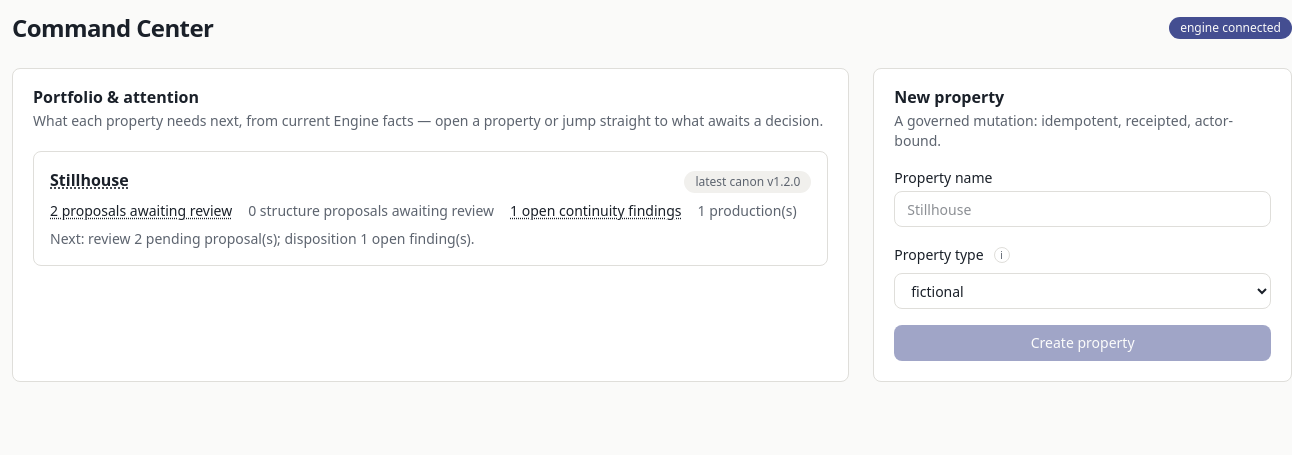
Test case: Command Center › surfaces a refresh failure after a created property, not swallowing it (SF3)
Expected: the link "Stillhouse" is shown, [50,168,129,192]
Type "Vellumvale" into the field labelled "Property name" at (1083, 209), box [894,191,1271,227]
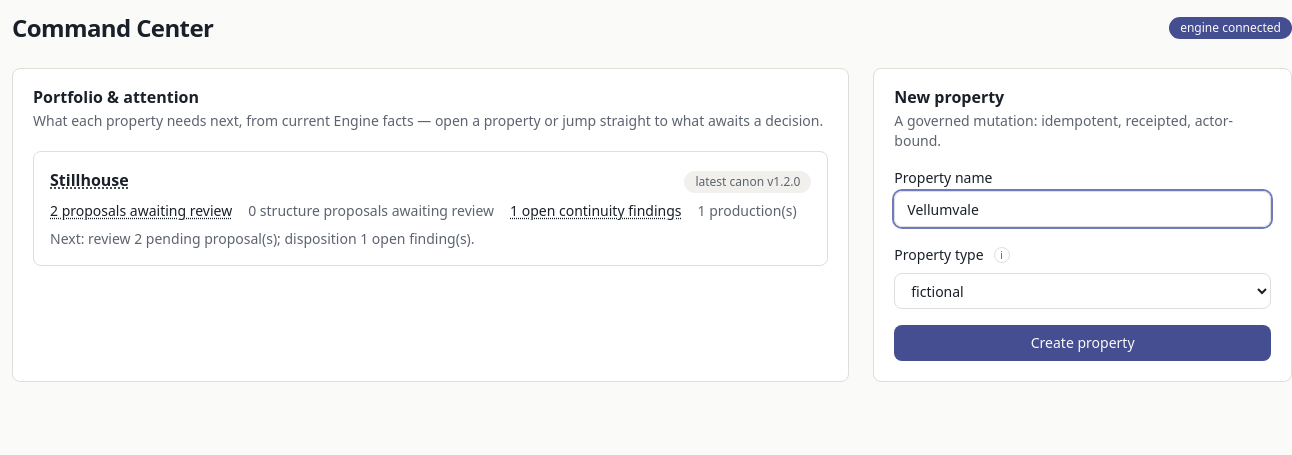
Click the button "Create property" at (1083, 343), box [894,325,1271,361]
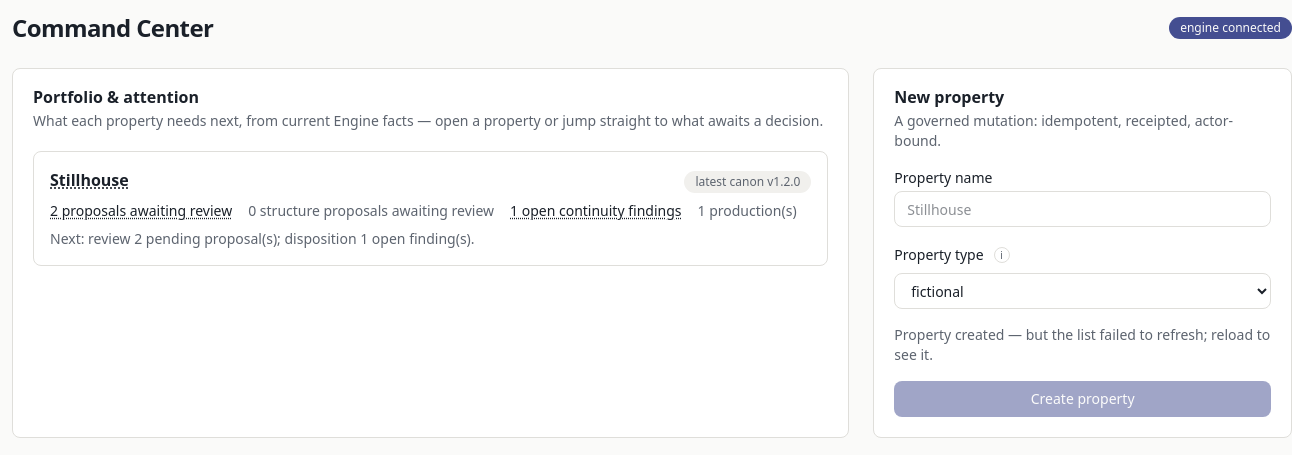
Expected: the text "Property created — but the list failed to refresh; reload to see it." is shown, [894,325,1271,365]
Expected: the field labelled "Property name" is empty, [894,191,1271,227]
